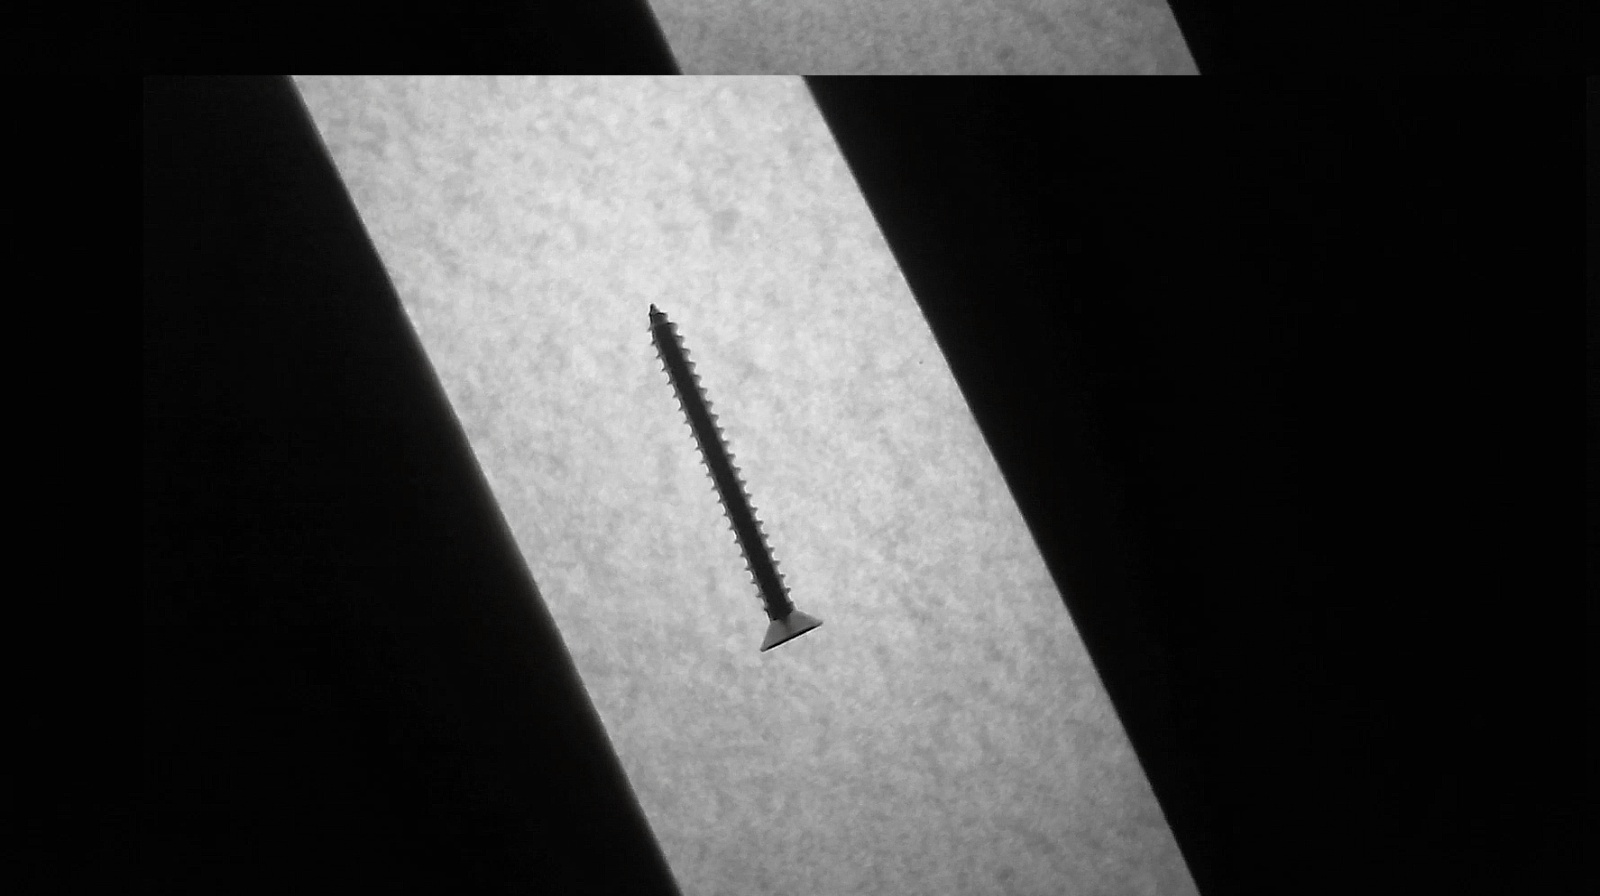S002: (629, 292, 840, 682)
